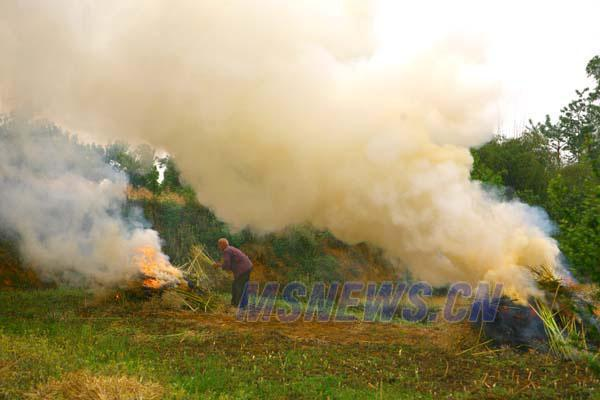fire: (136, 246, 161, 287)
